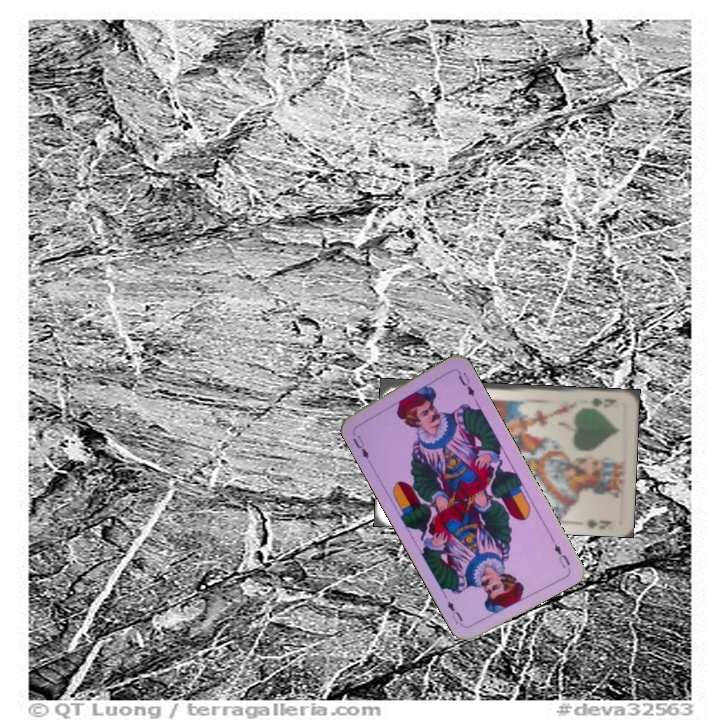EU: (546, 533, 573, 571), (349, 431, 373, 465)
GK: (586, 394, 619, 410)
